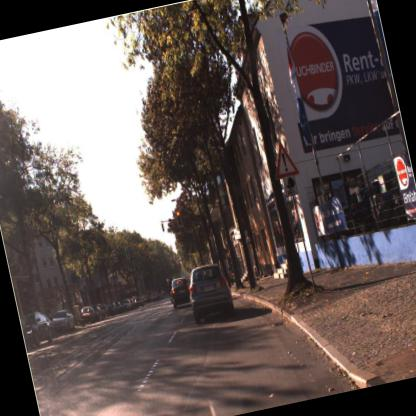danger: (266, 134, 301, 181)
